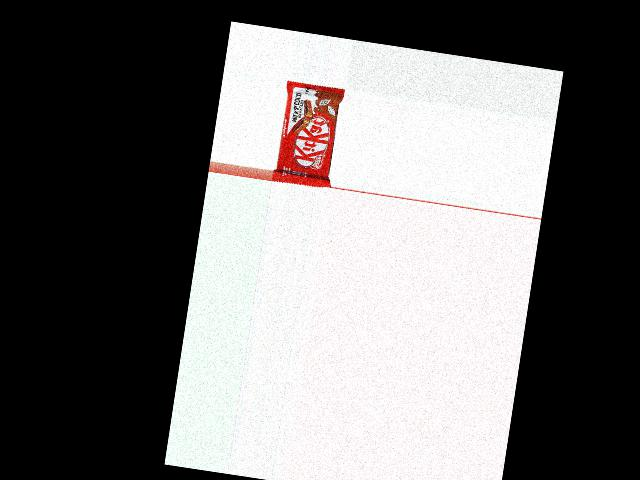chocolate: (271, 79, 345, 189)
